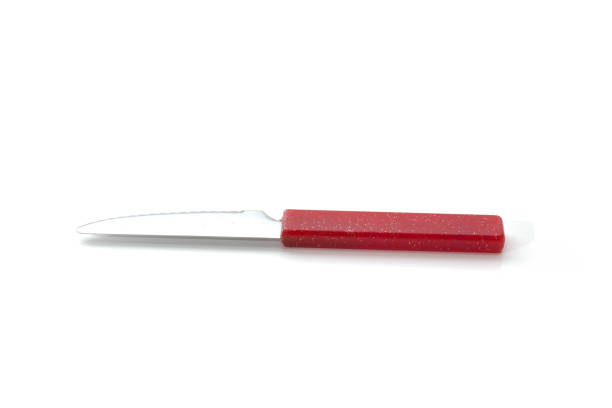knife: (74, 206, 507, 256)
